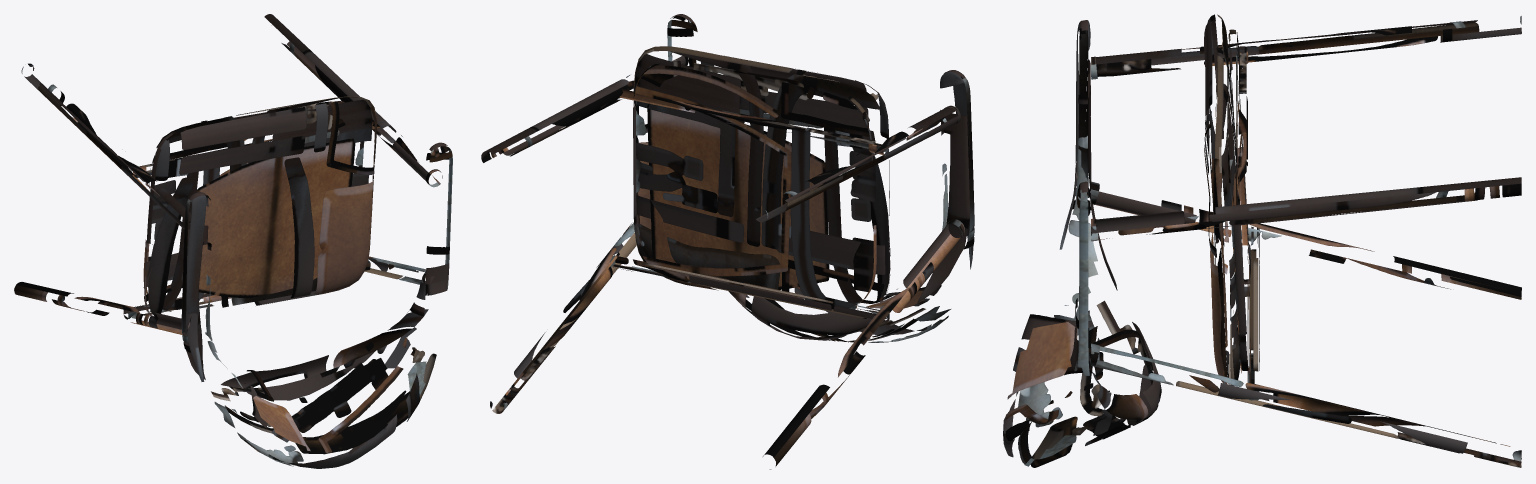
3 views of the same model, side by side, from view 1: azimuth 30°, elevation 25°; view 2: azimuth 150°, elevation 25°; view 3: azimuth 270°, elevation 25° (orthographic). The views are drawn at different scales.
Size of the model in its own units: 0.6 by 0.6449 by 0.7836.
